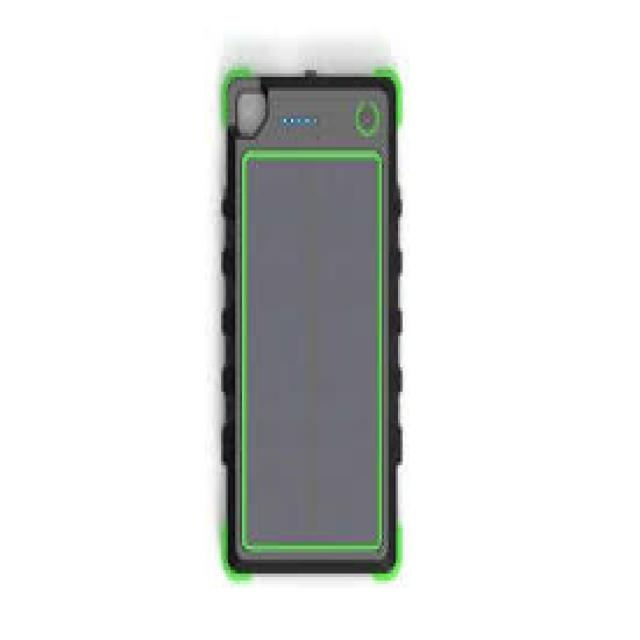hazard: (229, 61, 406, 574)
